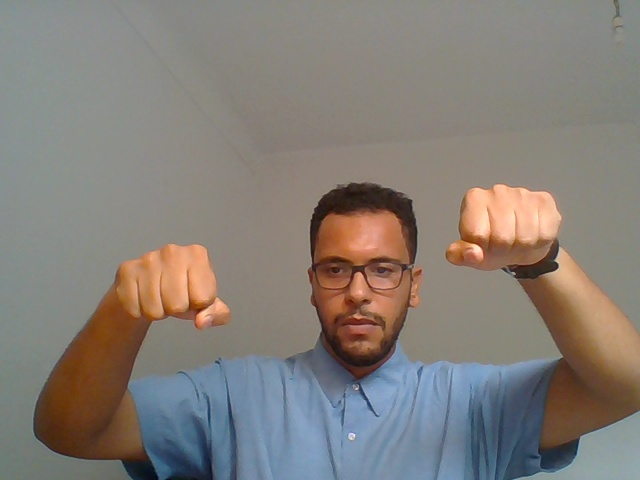yes: (69, 196, 250, 391), (441, 166, 593, 364)
